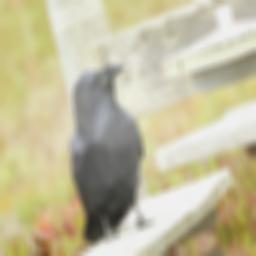Crow: (48, 55, 163, 250)
